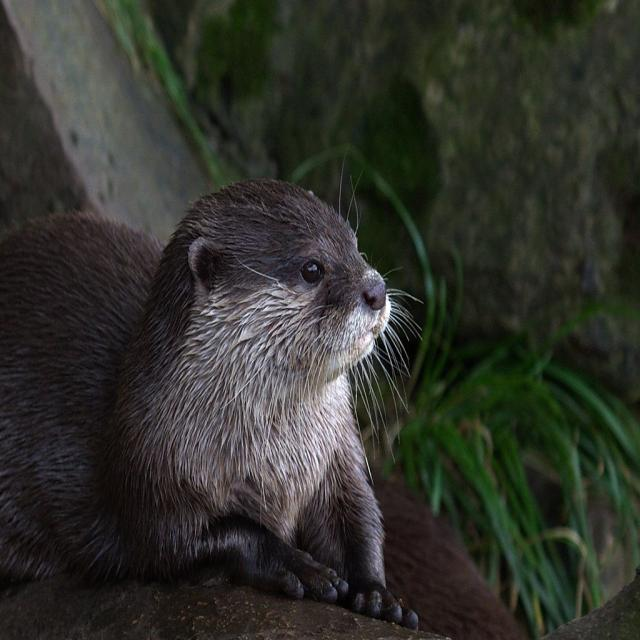otter: (1, 179, 416, 632)
